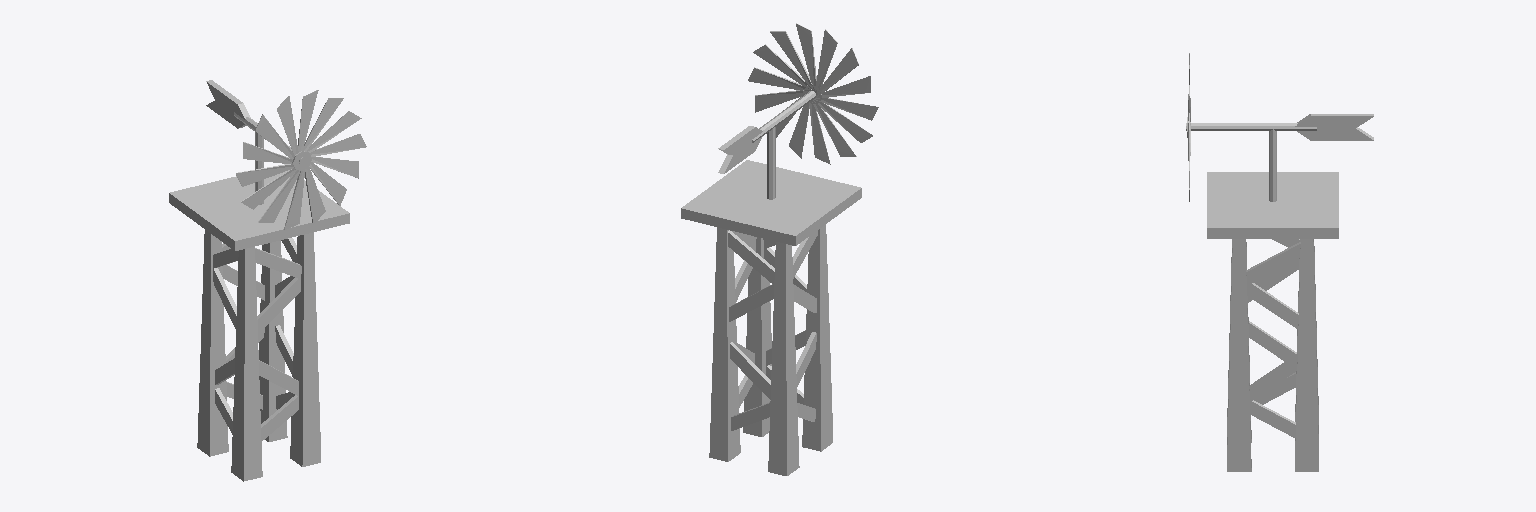
Rendered from Windmill.obj.
3 renders of one model, left to right at view 1: azimuth 30°, elevation 25°; view 2: azimuth 150°, elevation 25°; view 3: azimuth 270°, elevation 25°, orthographic.
Parts seen in each view (by area): view 1: 风车.1; view 2: 风车.1; view 3: 风车.1.
Part boxes in pixels (bbox=[...]): 风车.1: bbox=[169, 80, 366, 481]; 风车.1: bbox=[681, 23, 878, 475]; 风车.1: bbox=[1186, 53, 1373, 471].
Size of the model in its own units: 448 by 1279 by 555.